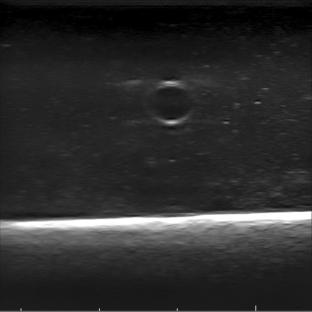vessel: (144, 81, 194, 126)
